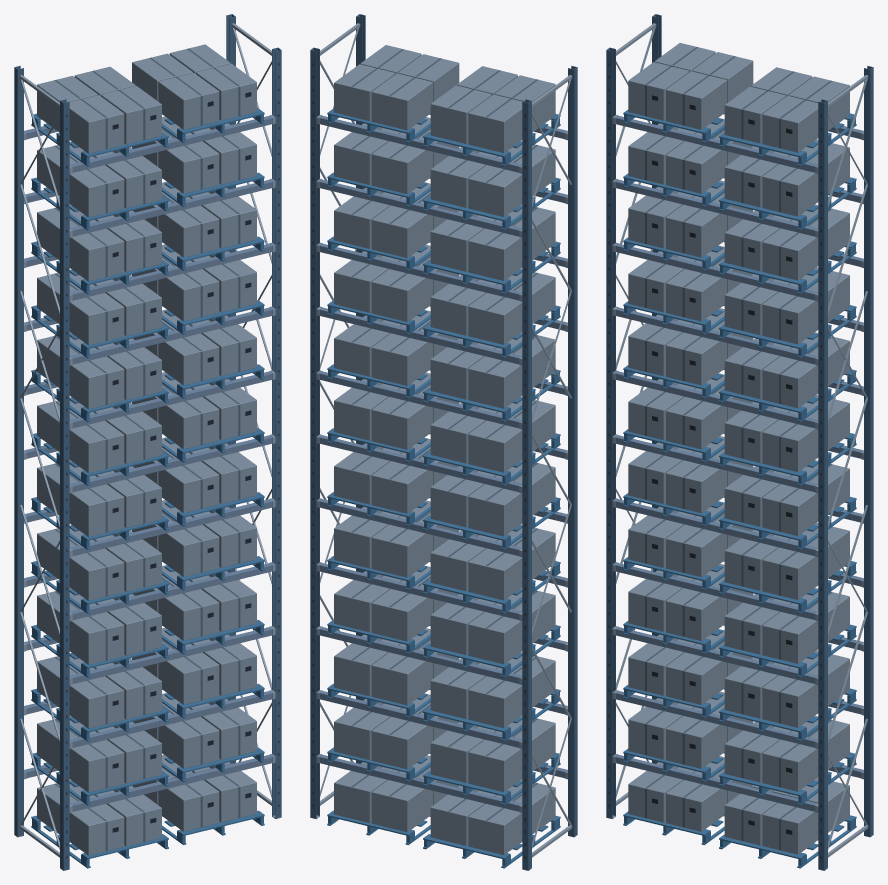
File: SM_GHS_V2Rack_B_W27219.fbx
The picture shows the model from 3 angles, left to right: view 1: azimuth 30°, elevation 25°; view 2: azimuth 150°, elevation 25°; view 3: azimuth 330°, elevation 25°; orthographic projection.
Parts seen in each view (by area): view 1: SM_GHS_V2Rack_B_W27219; view 2: SM_GHS_V2Rack_B_W27219; view 3: SM_GHS_V2Rack_B_W27219.
Part boxes in pixels (<box>): SM_GHS_V2Rack_B_W27219: <box>14,14,281,870</box>; SM_GHS_V2Rack_B_W27219: <box>310,14,577,870</box>; SM_GHS_V2Rack_B_W27219: <box>606,14,873,870</box>.
Bounding box in the file's own units: 272 × 122 × 915.
